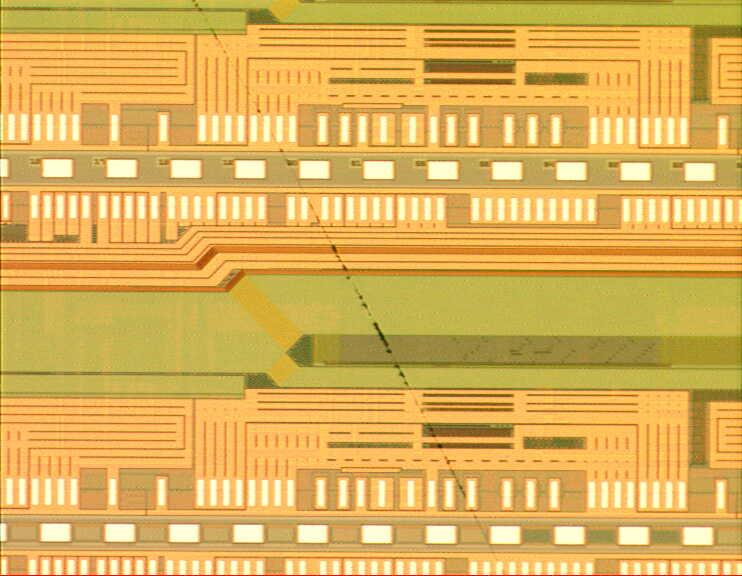SCRATCH: (188, 1, 513, 575)
